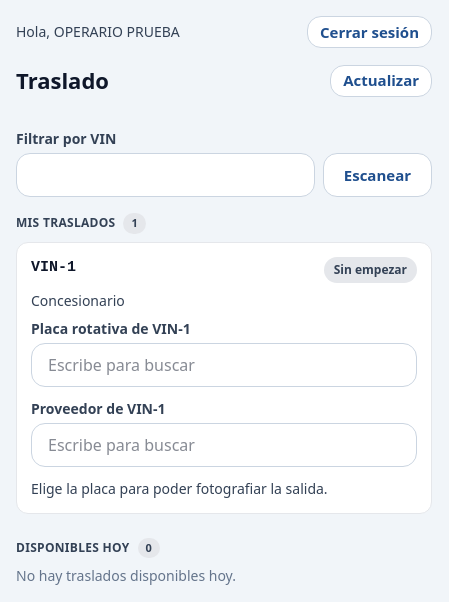
Test: AC1 · el selector de placa y proveedor en la orden › se puede filtrar por código en la placa, con la lista limitada a 224 px
Expected: the text "VIN-1" is shown, [31,256,76,279]
Step 1. Type "eeb" into the dropdown labelled "Placa rotativa de VIN-1" → (224, 364), box [31,342,417,386]
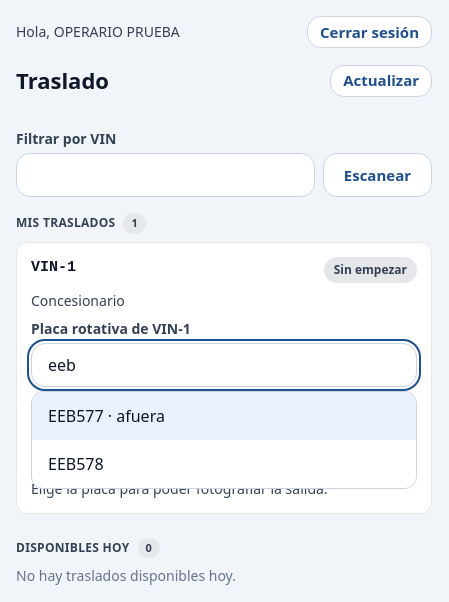
Expected: the options read "EEB577 · afuera", "EEB578", in this order, [32,392,416,440]; [48,452,104,474]
